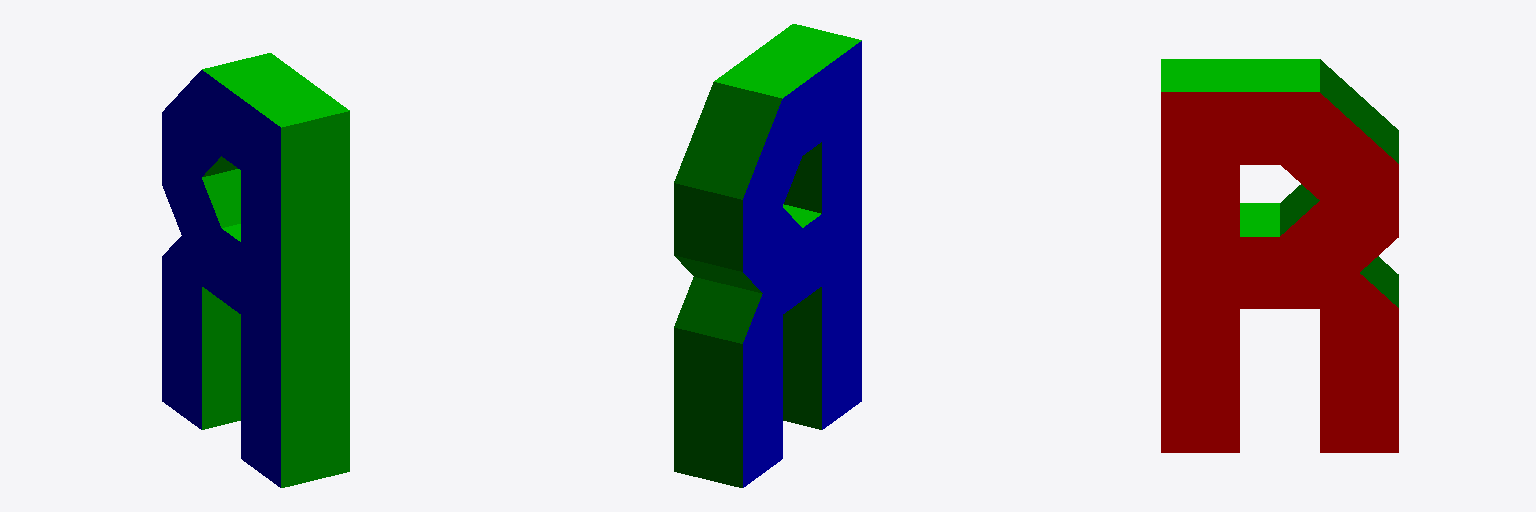
File: character_r.obj
3 views of the same model, side by side, from view 1: azimuth 30°, elevation 25°; view 2: azimuth 150°, elevation 25°; view 3: azimuth 270°, elevation 25° (orthographic).
Visible parts, largest first — view 1: Cube.001; view 2: Cube.001; view 3: Cube.001.
Part boxes in pixels (left/top/right/bottom): Cube.001: left=162, top=53, right=349, bottom=487; Cube.001: left=674, top=24, right=861, bottom=487; Cube.001: left=1161, top=59, right=1398, bottom=452.
Size of the model in its own units: 6 by 30 by 18.